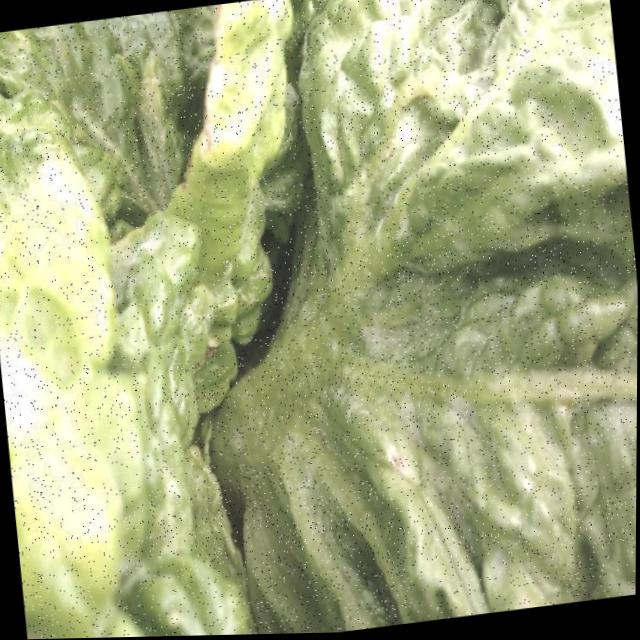Bad: (0, 0, 638, 639)
